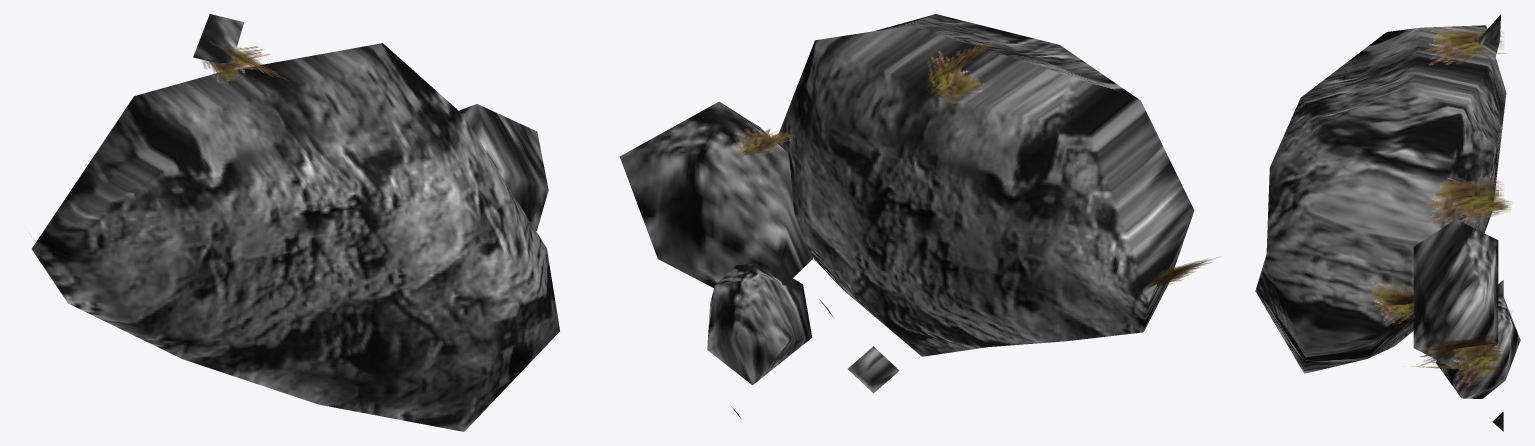
File: Stone01.glb
3 renders of one model, left to right at view 1: azimuth 30°, elevation 25°; view 2: azimuth 150°, elevation 25°; view 3: azimuth 270°, elevation 25°, orthographic. The views are drawn at different scales.
Parts seen in each view (by area): view 1: model_Stone01; view 2: model_Stone01; view 3: model_Stone01.
Part boxes in pixels (x1,y1,x2,y2): model_Stone01: (29,14,559,431); model_Stone01: (619,14,1218,419); model_Stone01: (1255,14,1520,431).
Bounding box in the file's own units: 4.12 × 2.86 × 2.05.
Materials: 2 (2 with a texture image).
